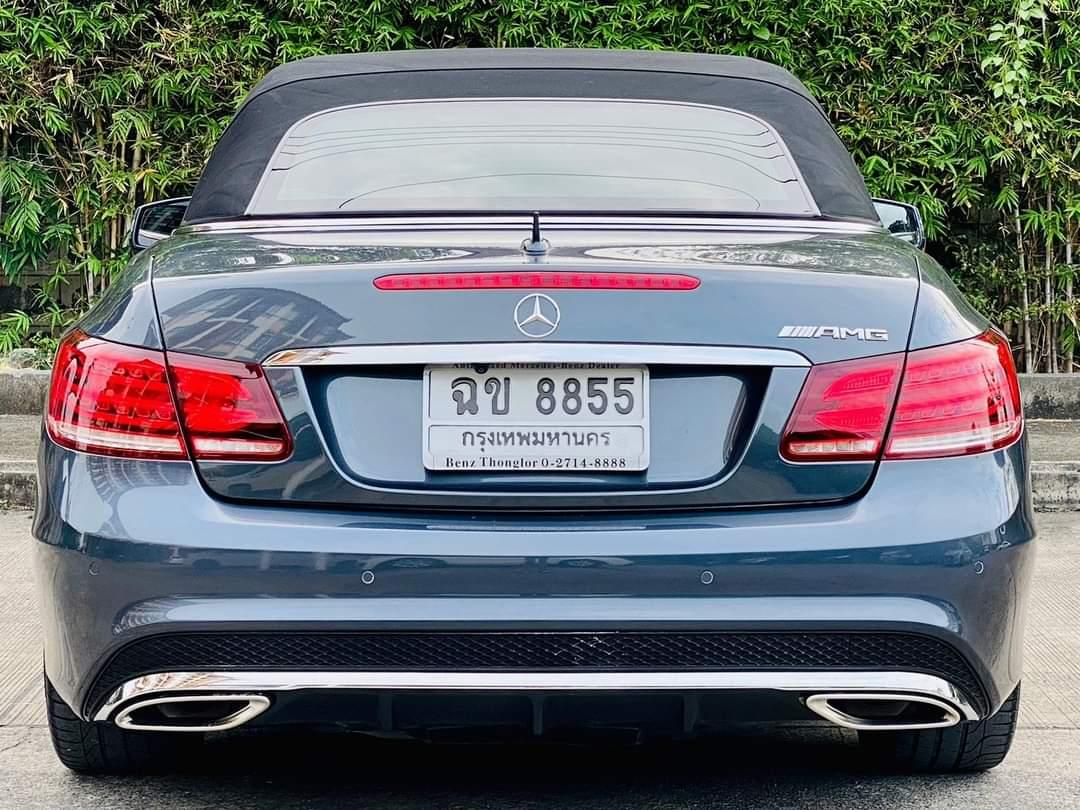license-plate: (420, 361, 651, 471)
